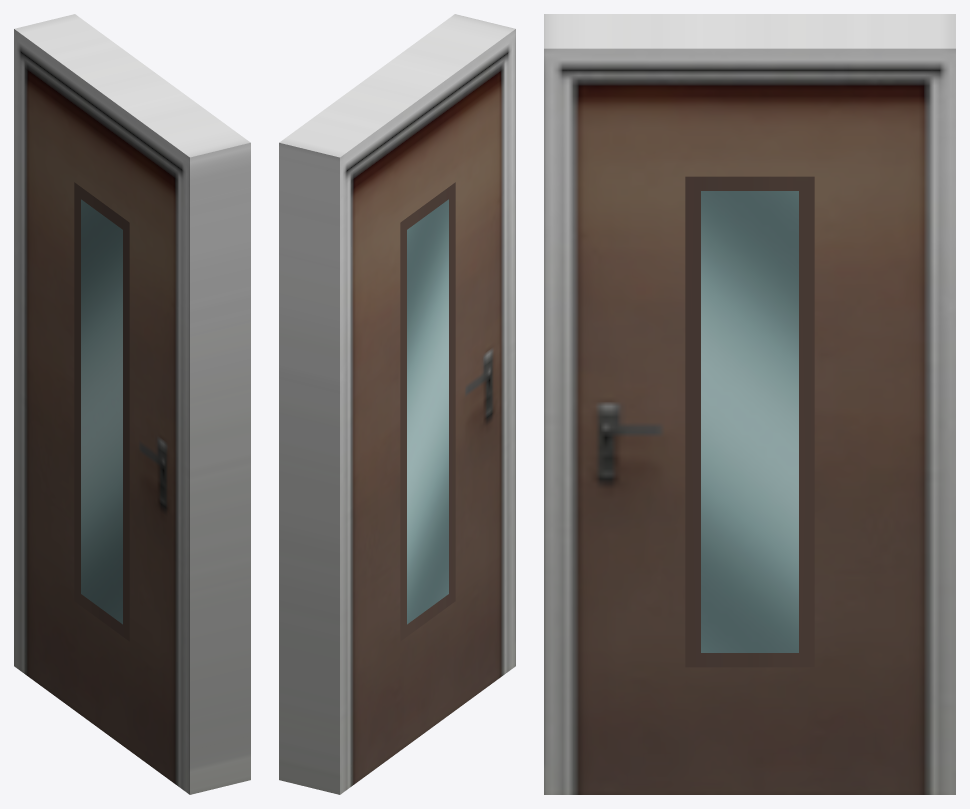
Rendered from glassdoor.fbx.
3 views of the same model, side by side, from view 1: azimuth 30°, elevation 25°; view 2: azimuth 150°, elevation 25°; view 3: azimuth 270°, elevation 25° (orthographic). The views are drawn at different scales.
Visible parts, largest first — view 1: bathroomdoor; view 2: bathroomdoor; view 3: bathroomdoor.
Part boxes in pixels (x1,y1,x2,y2): bathroomdoor: (14,14,250,794); bathroomdoor: (279,14,515,794); bathroomdoor: (544,14,955,794).
Size of the model in its own units: 0.4 by 4 by 2.
Materials: 1 (1 with a texture image).
